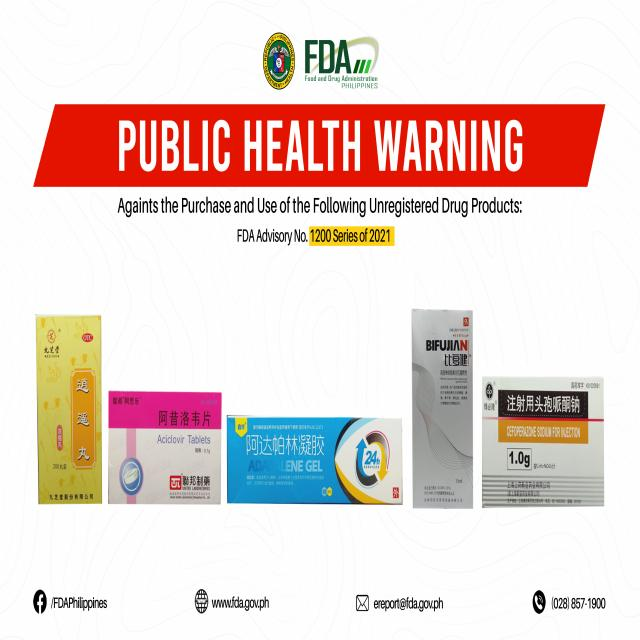counterfeit: (223, 411, 405, 507), (481, 373, 608, 510), (105, 389, 224, 505), (34, 314, 104, 509), (414, 304, 474, 511)
